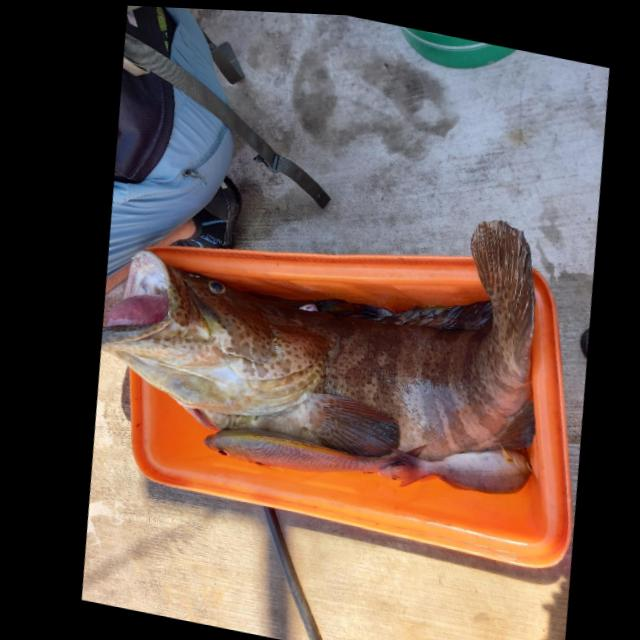Groupers: (75, 142, 563, 495)
